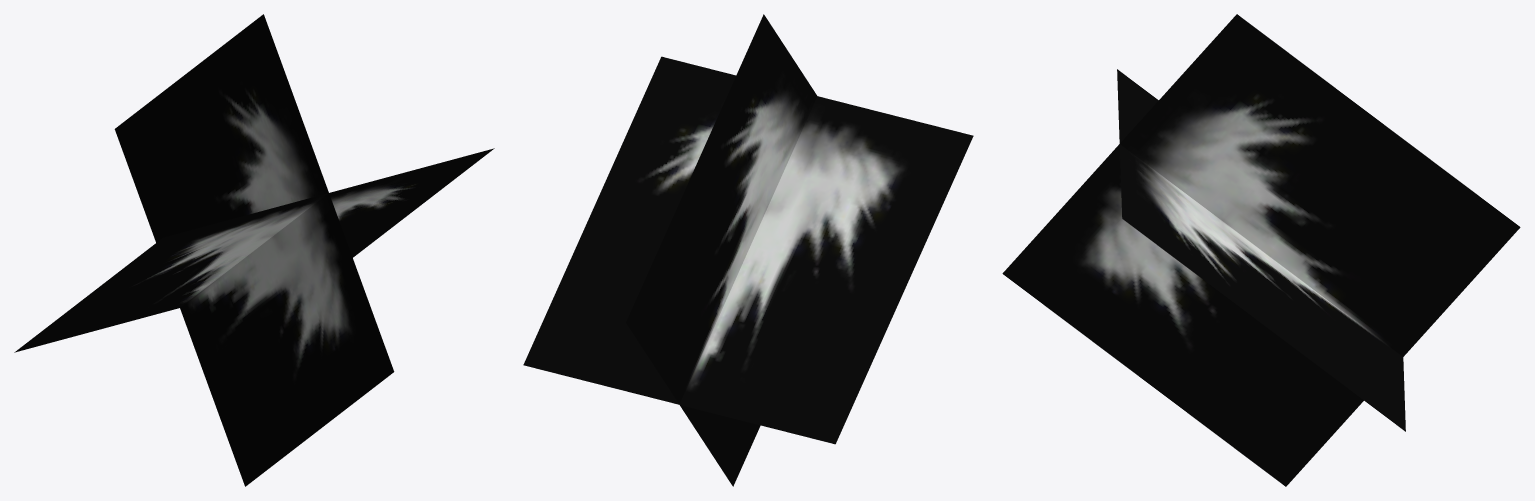
File: effect_gedoujia_atk03_atk.fbx
3 views of the same model, side by side, from view 1: azimuth 30°, elevation 25°; view 2: azimuth 150°, elevation 25°; view 3: azimuth 270°, elevation 25° (orthographic). The views are drawn at different scales.
Visible parts, largest first — view 1: guang01; view 2: guang01; view 3: guang01.
Boxes of the visible parts, x1,y1,x2,y2 form: guang01: [14, 14, 494, 486]; guang01: [523, 14, 973, 486]; guang01: [1002, 14, 1520, 486].
Bounding box in the file's own units: 1.4 × 1.97 × 1.97.
